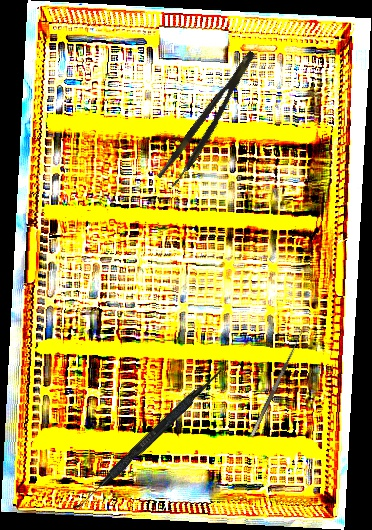Hook Surgical: (244, 326, 306, 437)
Spatula Surgical: (72, 364, 224, 516)
Tissue Forceps: (156, 49, 267, 189)
